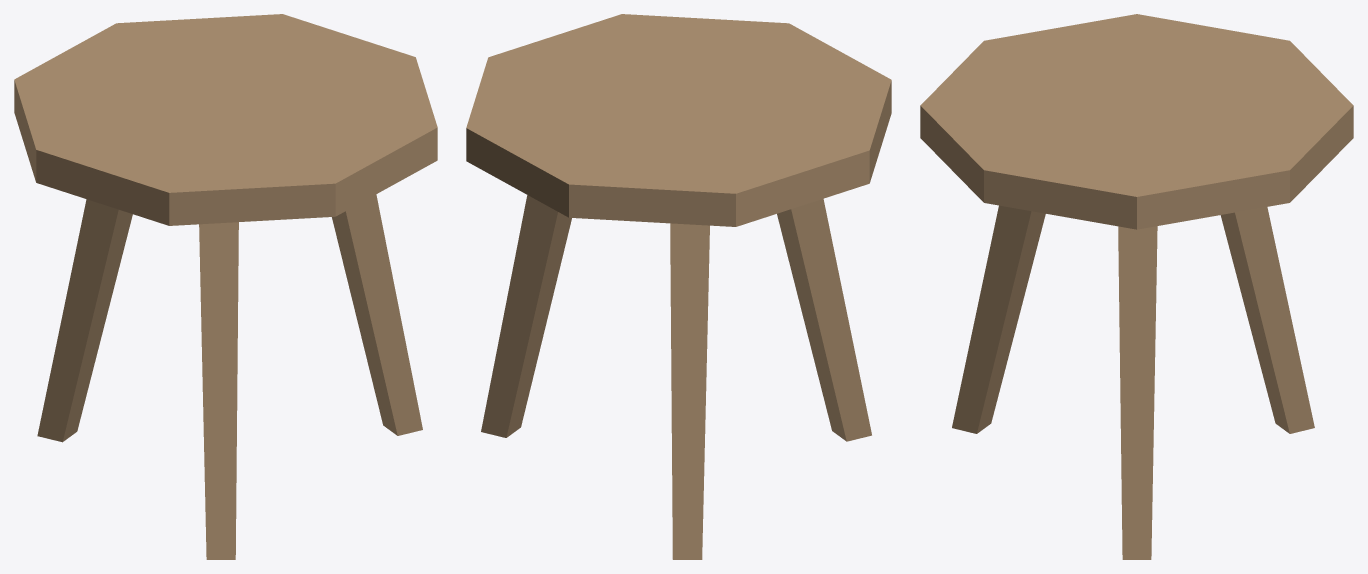
The model's file is enchantedforest_stool.fbx.
3 views of the same model, side by side, from view 1: azimuth 30°, elevation 25°; view 2: azimuth 150°, elevation 25°; view 3: azimuth 270°, elevation 25° (orthographic).
Visible parts, largest first — view 1: Cube.029; view 2: Cube.029; view 3: Cube.029.
Boxes of the visible parts, box(x1,y1,x2,y2) form: Cube.029: box(14, 14, 437, 559); Cube.029: box(466, 14, 891, 559); Cube.029: box(920, 14, 1353, 559).
Size of the model in its own units: 0.6 by 0.555 by 0.6.
